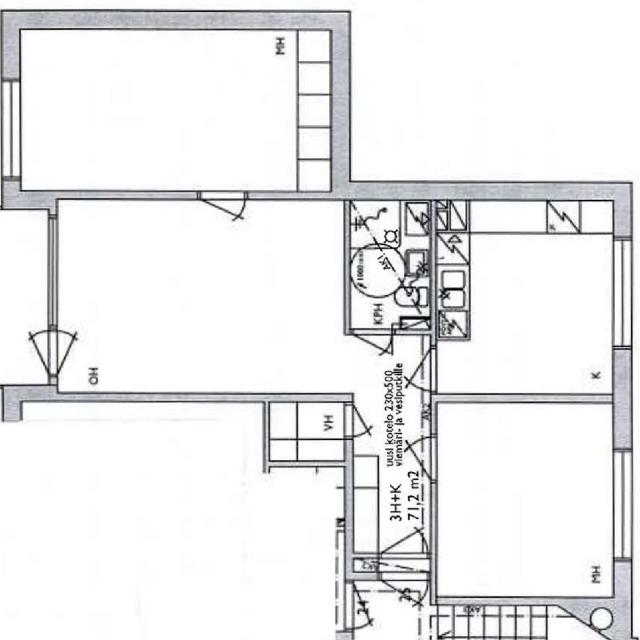door: (381, 572, 428, 626), (48, 330, 102, 374), (3, 330, 57, 374), (382, 508, 428, 558), (200, 191, 244, 243), (386, 437, 436, 480), (386, 348, 436, 391), (353, 328, 392, 372), (344, 405, 386, 437)
